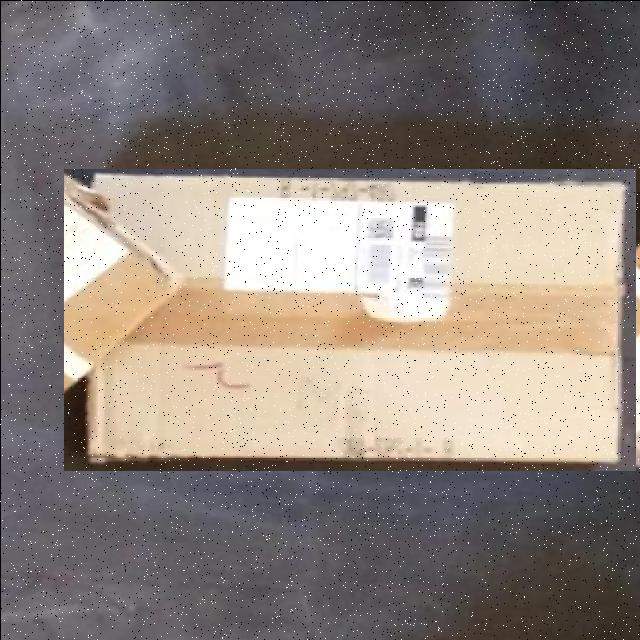normal: (63, 168, 635, 470)
